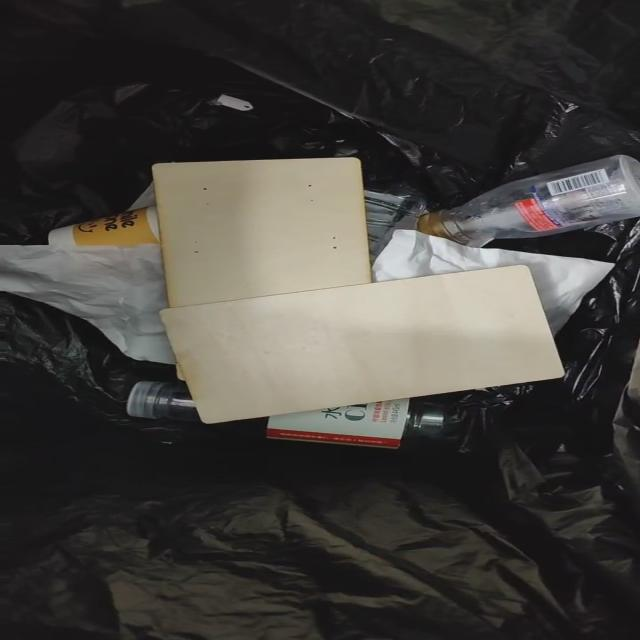bottle: (416, 156, 639, 246), (212, 394, 462, 449), (126, 382, 202, 424)
carton: (154, 158, 562, 422)
dixie_cup: (48, 207, 157, 246)
paper: (372, 230, 612, 334), (0, 244, 173, 364)
